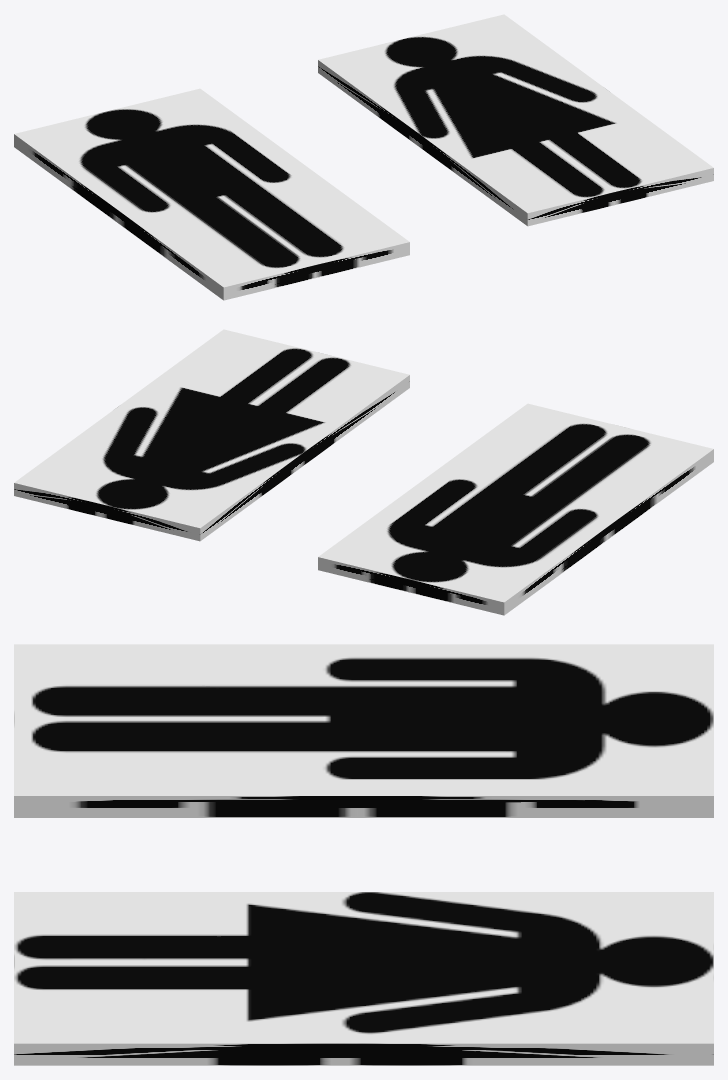
The model's file is toilet sign.FBX.
The picture shows the model from 3 angles, top to bottom: view 1: azimuth 30°, elevation 25°; view 2: azimuth 150°, elevation 25°; view 3: azimuth 270°, elevation 25°; orthographic projection. The views are drawn at different scales.
Parts seen in each view (by area): view 1: Box001, Box002; view 2: Box001, Box002; view 3: Box001, Box002.
Boxes of the visible parts, <box> form: Box001: <box>14,88,409,300</box>; Box002: <box>318,14,713,226</box>; Box001: <box>318,403,713,615</box>; Box002: <box>14,329,409,541</box>; Box001: <box>14,644,713,817</box>; Box002: <box>14,892,713,1065</box>.
Bounding box in the file's own units: 44.77 × 1.14 × 33.17.
Materials: 2 (2 with a texture image).
